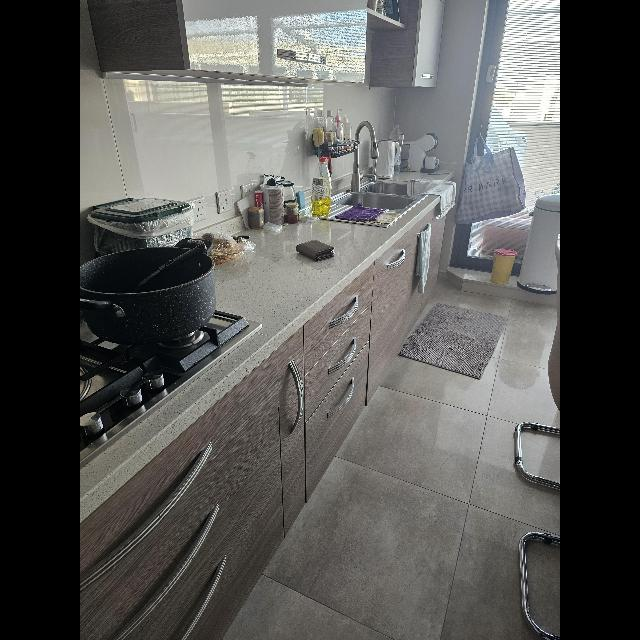Wallet: (296, 240, 334, 262)
